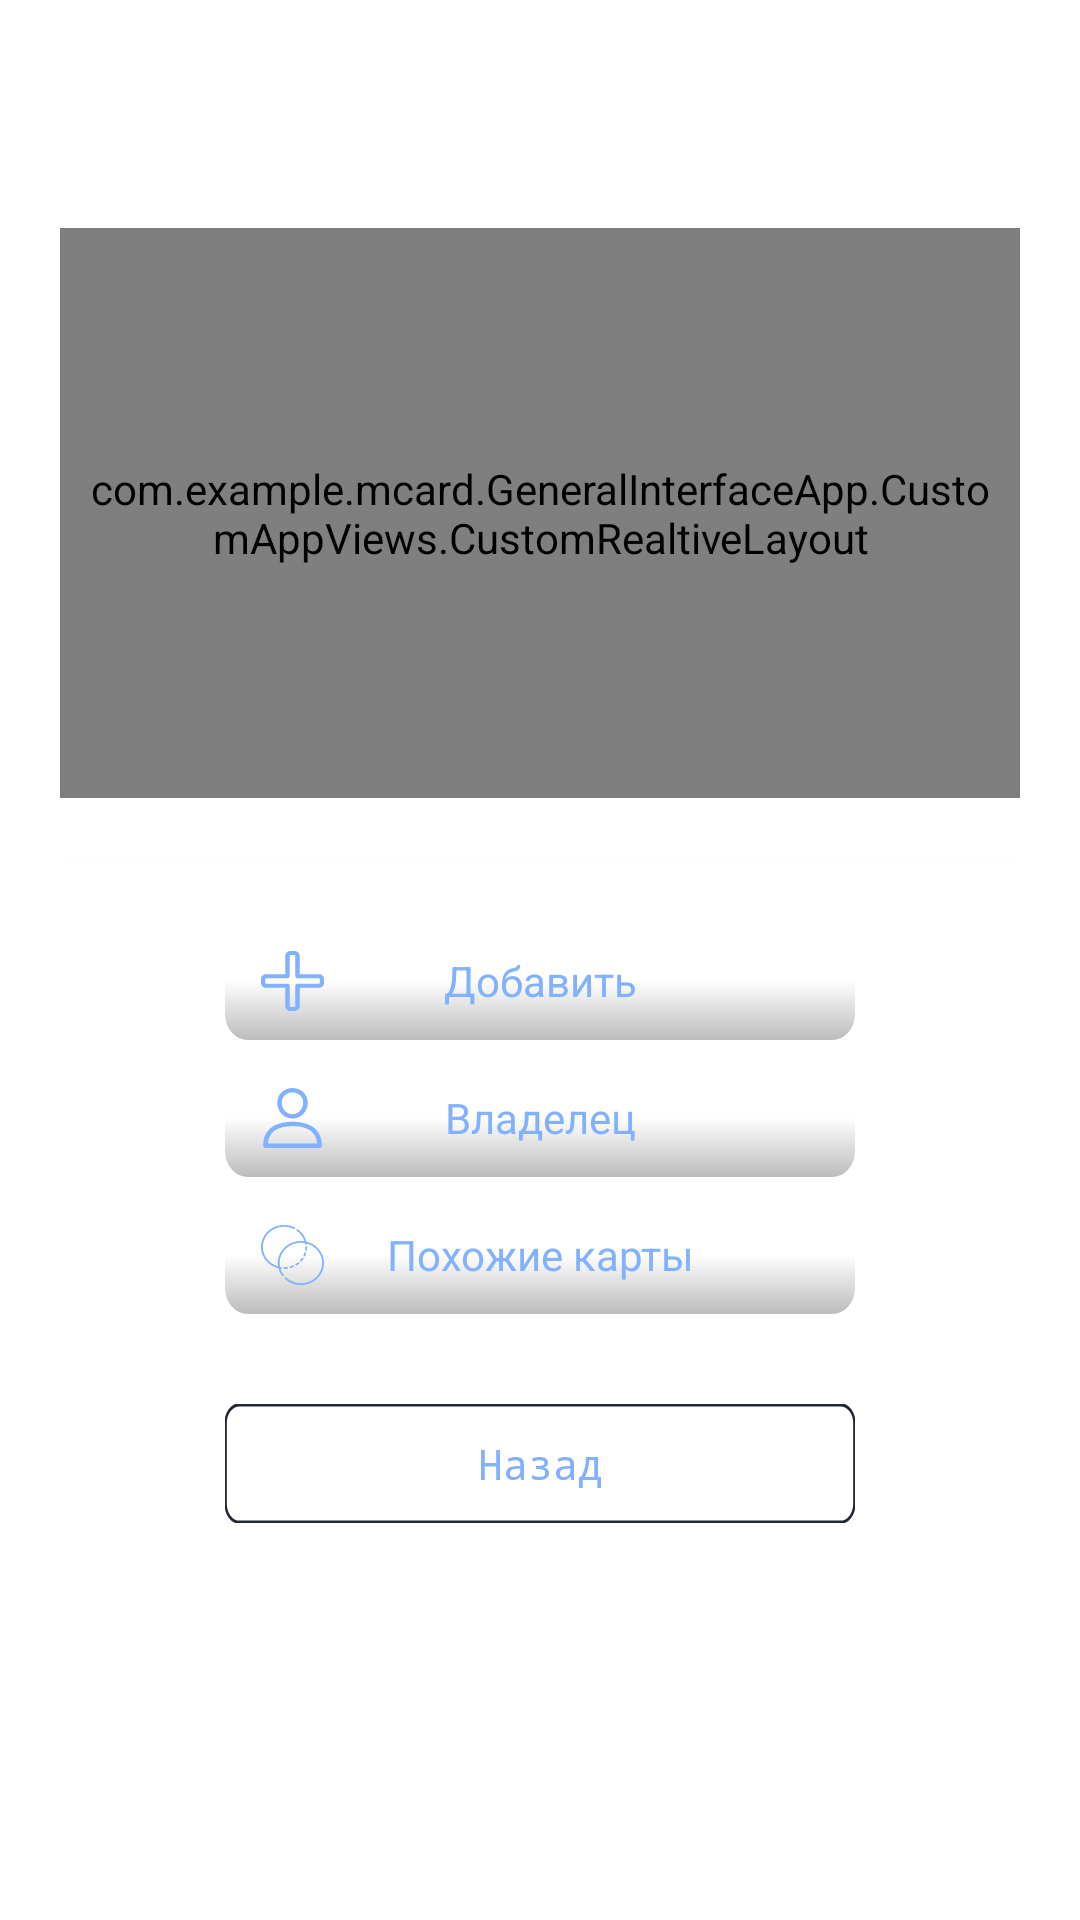

Icon bounding boxes for this 1080*1920 phone screenshot, format region(x1, y1, x2, y2):
global singlecard import: region(225, 951, 360, 1040)
global singlecard profile: region(225, 1088, 360, 1177)
global singlecard similar: region(225, 1225, 360, 1314)
